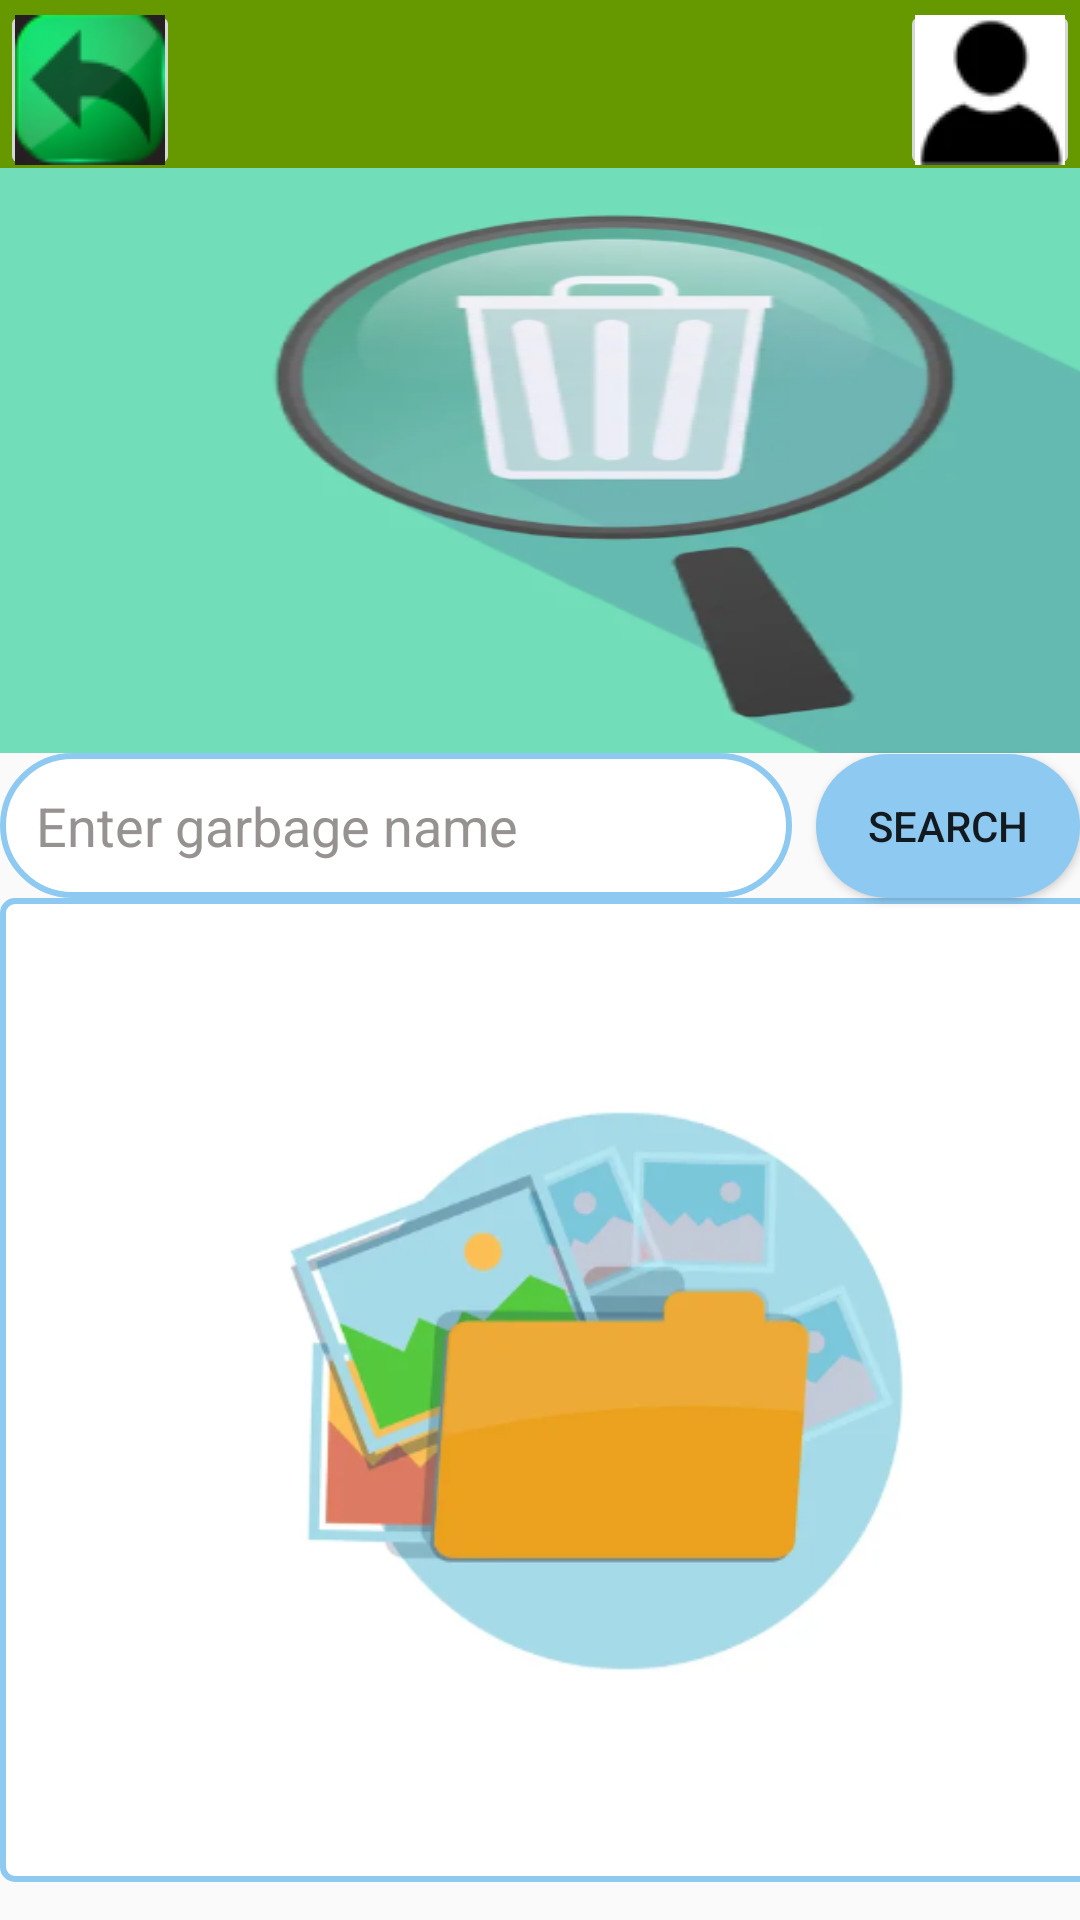

Point at icon controls on the screen. Image size 1080*1920, points as [x,y].
back: [90,90]
Open account information: [990,90]
